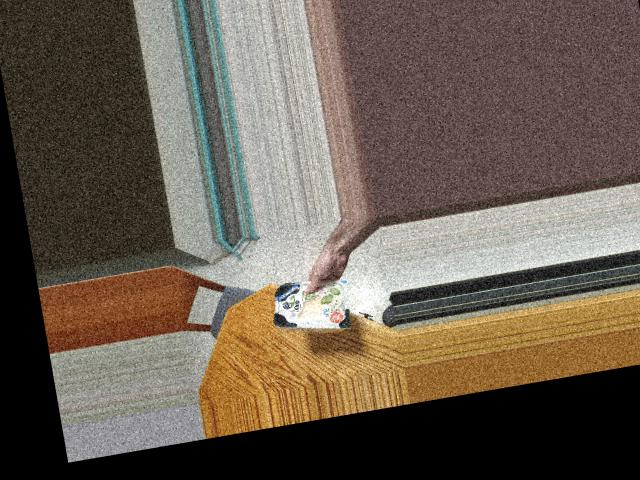cheese: (266, 258, 359, 344)
